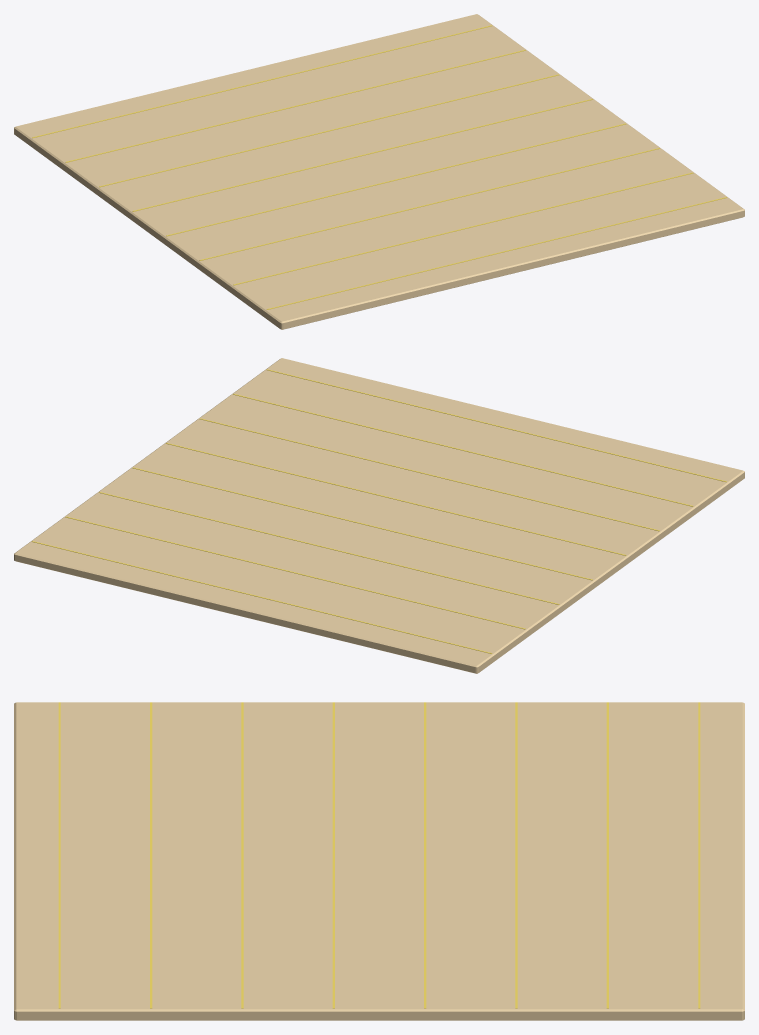
File: community-sports-hall-and-changing-rooms-sports-hall-f-b0fb7dea__35084.glb
3 views of the same model, one above another, from view 1: azimuth 30°, elevation 25°; view 2: azimuth 150°, elevation 25°; view 3: azimuth 270°, elevation 25° (orthographic). The views are drawn at different scales.
Visible parts, largest first — view 1: sports-hall-floor-panel-plain; view 2: sports-hall-floor-panel-plain; view 3: sports-hall-floor-panel-plain.
Boxes of the visible parts, <box> form: sports-hall-floor-panel-plain: <box>14,14,744,329</box>; sports-hall-floor-panel-plain: <box>14,358,744,673</box>; sports-hall-floor-panel-plain: <box>14,702,744,1020</box>.
Size of the model in its own units: 2 by 0.0354 by 2.
